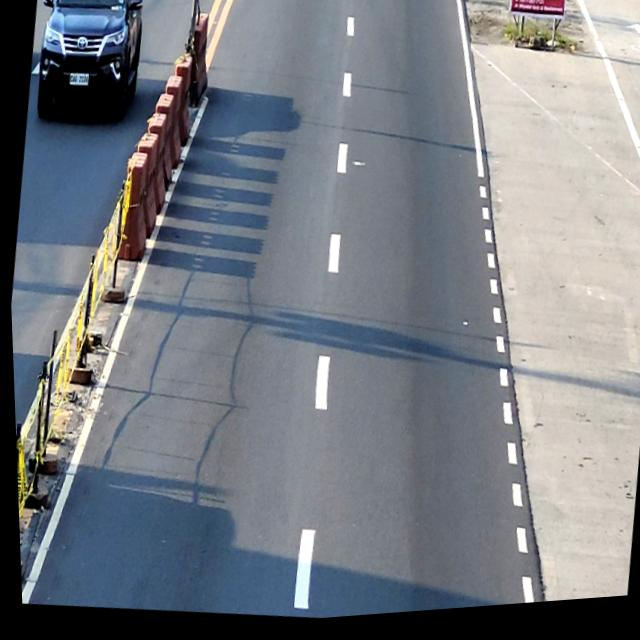Car: (29, 0, 152, 130)
License-Plate: (67, 72, 89, 89)
